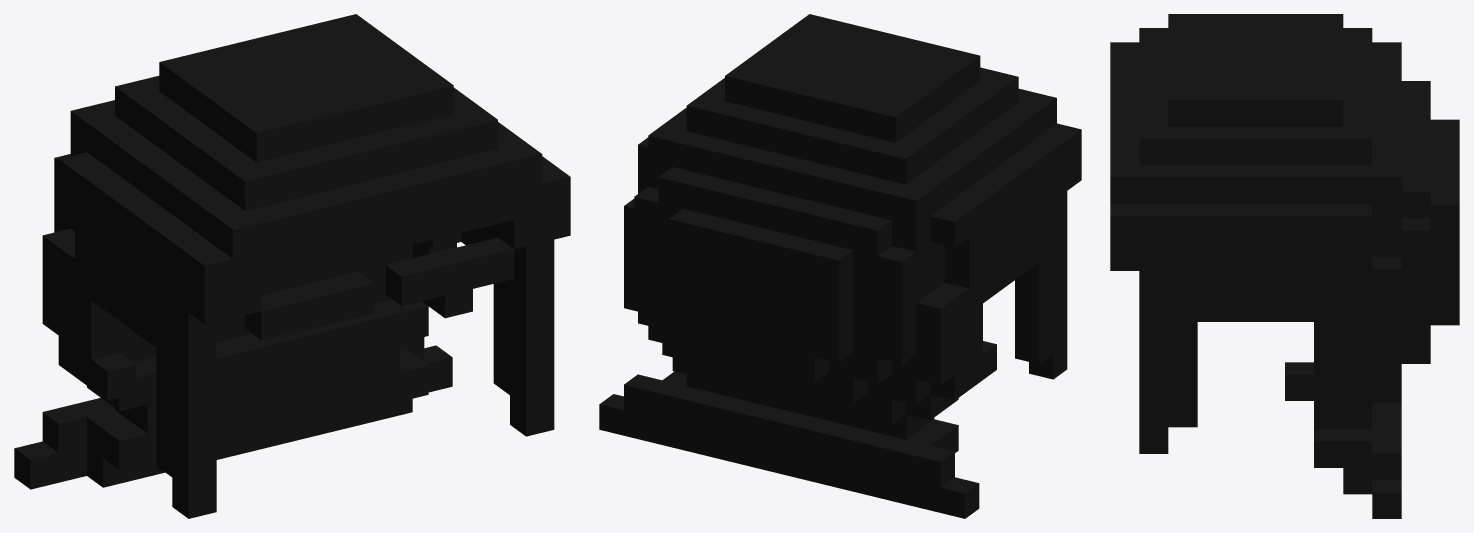
Rendered from Union_38.fbx.
The picture shows the model from 3 angles, left to right: view 1: azimuth 30°, elevation 25°; view 2: azimuth 150°, elevation 25°; view 3: azimuth 270°, elevation 25°; orthographic projection. The views are drawn at different scales.
Parts seen in each view (by area): view 1: Union_38; view 2: Union_38; view 3: Union_38.
Part boxes in pixels (bbox=[...]): Union_38: bbox=[14, 14, 570, 518]; Union_38: bbox=[599, 14, 1081, 518]; Union_38: bbox=[1110, 14, 1459, 518].
Bounding box in the file's own units: 15 × 14 × 12.
1 material, 1 textured.
